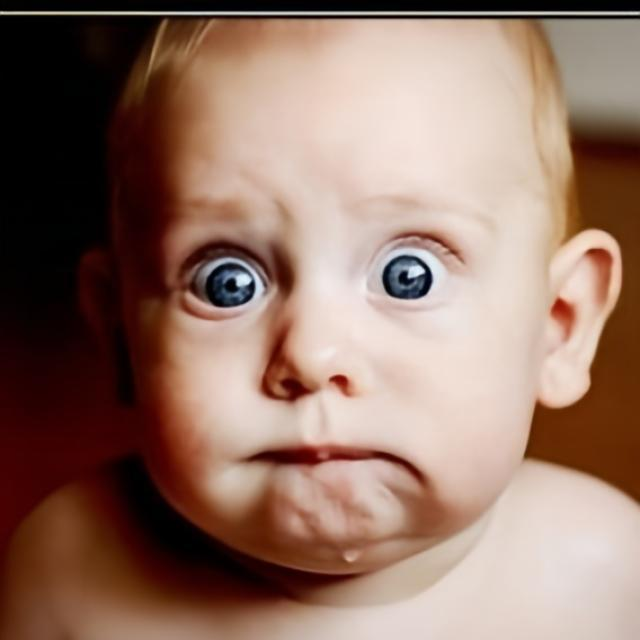fear: (105, 19, 553, 576)
